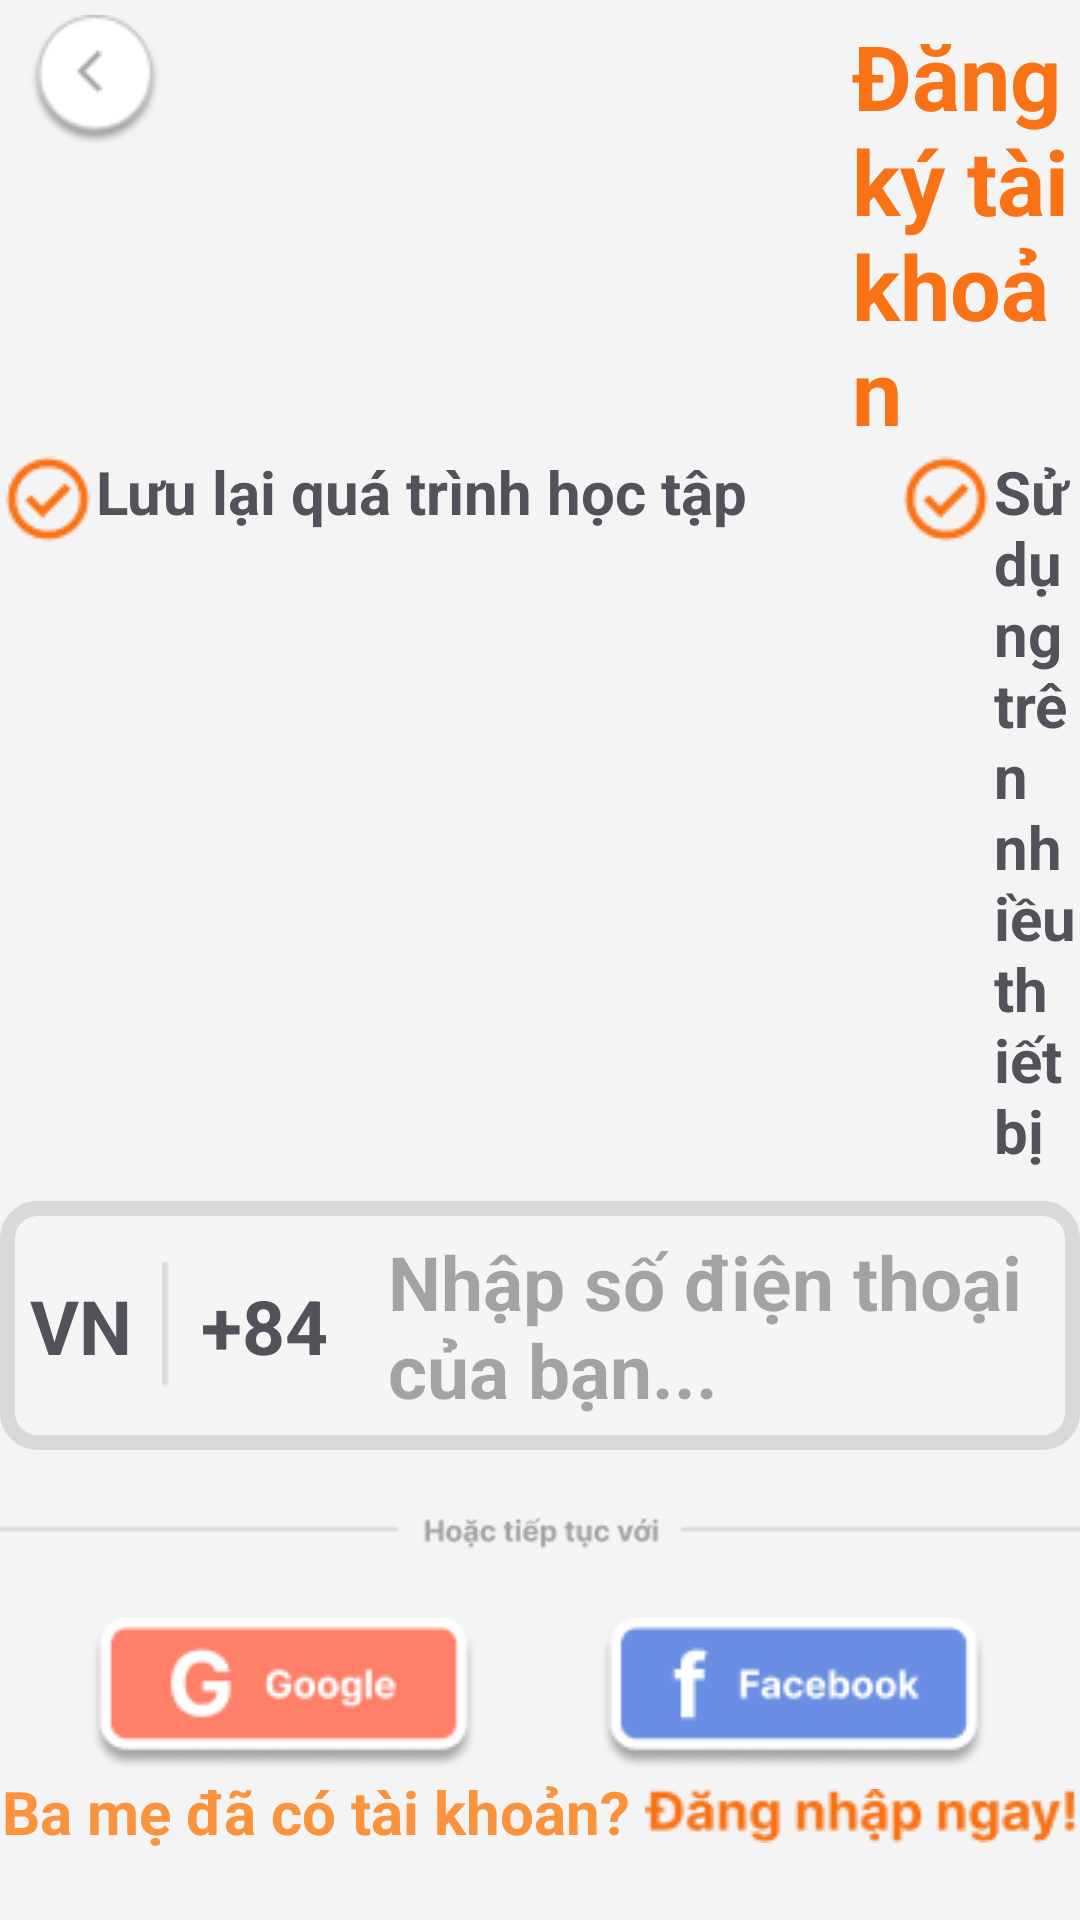

Icon click points for this 1080*1920 phone screenshot, format [x,y]:
check circle: [48,499], [946,499]
